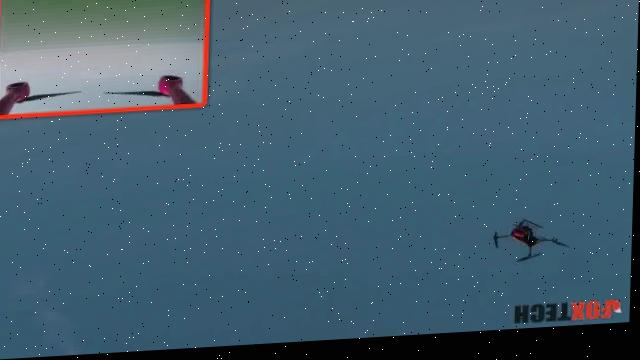drone: (484, 216, 573, 278)
